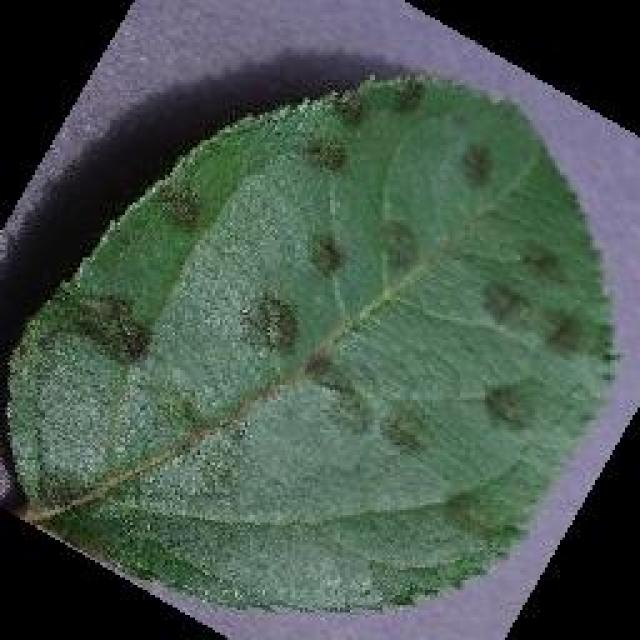Apple___Apple_scab: (0, 68, 626, 623)
